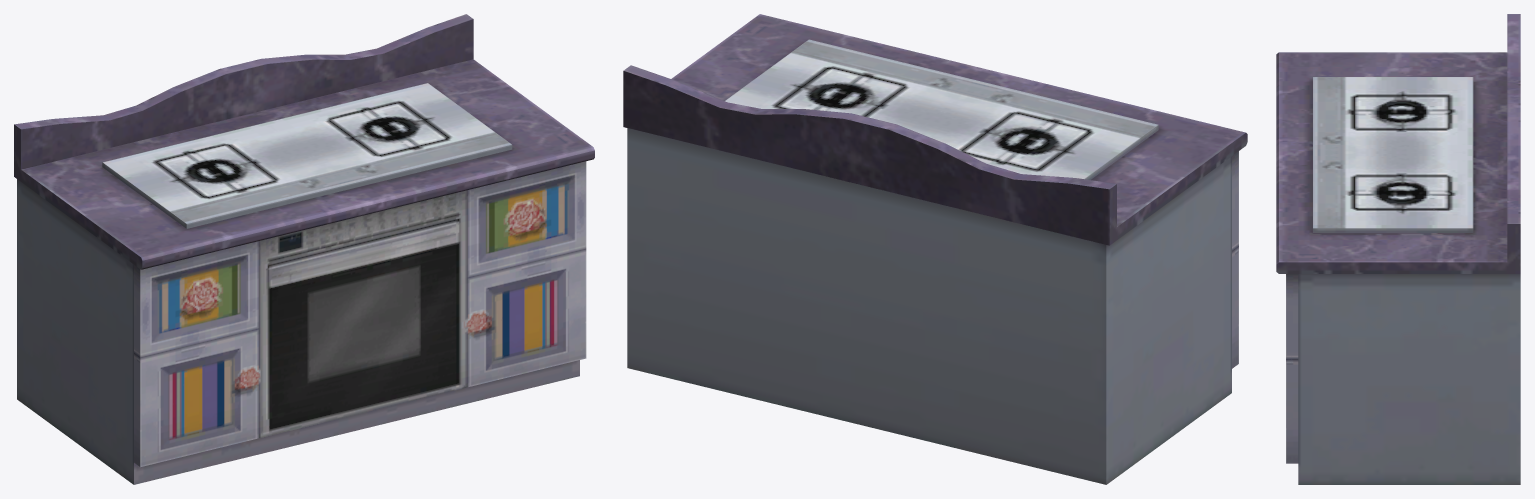
File: furni_0200617_01.FBX
The picture shows the model from 3 angles, left to right: view 1: azimuth 30°, elevation 25°; view 2: azimuth 150°, elevation 25°; view 3: azimuth 270°, elevation 25°; orthographic projection. The views are drawn at different scales.
Visible parts, largest first — view 1: furni_0200617_01; view 2: furni_0200617_01; view 3: furni_0200617_01.
Boxes of the visible parts, x1,y1,x2,y2 form: furni_0200617_01: [14, 14, 594, 484]; furni_0200617_01: [623, 14, 1247, 484]; furni_0200617_01: [1276, 14, 1520, 484].
Bounding box in the file's own units: 163 × 96.53 × 79.84.
1 material, 1 textured.
